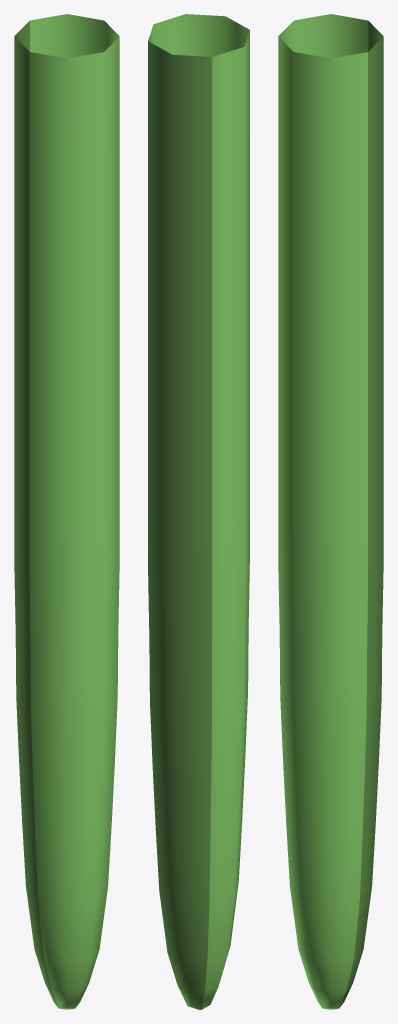
The model's file is Testfbx.fbx.
3 views of the same model, side by side, from view 1: azimuth 90°, elevation 25°; view 2: azimuth 150°, elevation 25°; view 3: azimuth 270°, elevation 25° (orthographic).
Visible parts, largest first — view 1: Tentacle.005; view 2: Tentacle.005; view 3: Tentacle.005.
Part boxes in pixels (box(x1,y1,x2,y2)): Tentacle.005: box(14, 14, 119, 1009); Tentacle.005: box(148, 14, 249, 1009); Tentacle.005: box(278, 14, 383, 1009).
Size of the model in its own units: 0.5382 by 5.49 by 0.5382.
1 material, 1 textured.
